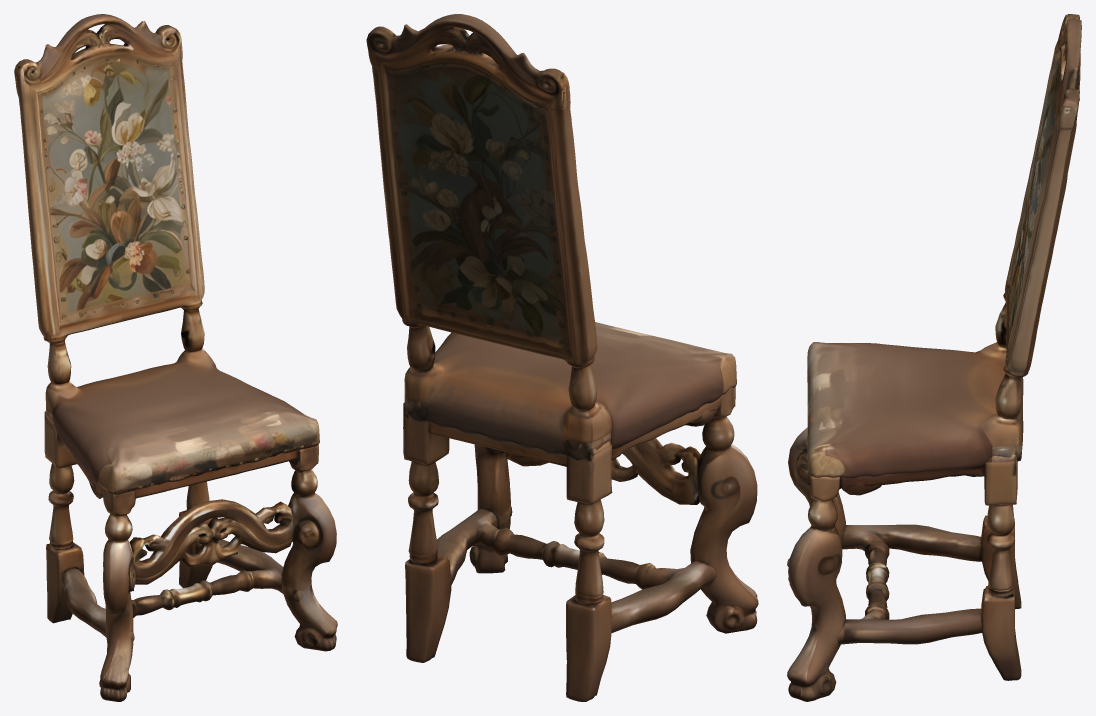
3 views of the same model, side by side, from view 1: azimuth 30°, elevation 25°; view 2: azimuth 150°, elevation 25°; view 3: azimuth 270°, elevation 25° (orthographic). The views are drawn at different scales.
Visible parts, largest first — view 1: root.0, root.1, root.2, root.4, root.3, root.7, root.5, root.6, root.8, root.11, root.12, root.15 (+2 smaller); view 2: root.0, root.1, root.3, root.6, root.8, root.9, root.2, root.7, root.4, root.5, root.11, root.10 (+4 smaller); view 3: root.1, root.0, root.4, root.7, root.6, root.9, root.10, root.5, root.13, root.3, root.15, root.8.
Boxes of the visible parts, x1=… form: root.0: x1=14, y1=14, x2=204, y2=343; root.1: x1=45, y1=348, x2=319, y2=494; root.2: x1=129, y1=499, x2=293, y2=584; root.4: x1=281, y1=469, x2=337, y2=651; root.3: x1=99, y1=514, x2=135, y2=701; root.7: x1=170, y1=539, x2=304, y2=607; root.5: x1=57, y1=434, x2=318, y2=515; root.6: x1=61, y1=568, x2=204, y2=641; root.8: x1=46, y1=542, x2=84, y2=623; root.11: x1=48, y1=463, x2=74, y2=550; root.12: x1=44, y1=411, x2=76, y2=468; root.15: x1=181, y1=308, x2=204, y2=352; root.0: x1=366, y1=14, x2=597, y2=368; root.1: x1=404, y1=322, x2=736, y2=460; root.3: x1=690, y1=416, x2=758, y2=633; root.6: x1=553, y1=544, x2=716, y2=632; root.8: x1=566, y1=595, x2=611, y2=701; root.9: x1=405, y1=554, x2=451, y2=662; root.2: x1=504, y1=438, x2=700, y2=504; root.7: x1=437, y1=506, x2=579, y2=584; root.4: x1=469, y1=444, x2=510, y2=573; root.5: x1=429, y1=387, x2=735, y2=466; root.11: x1=574, y1=499, x2=604, y2=605; root.10: x1=408, y1=461, x2=438, y2=564; root.1: x1=807, y1=342, x2=1023, y2=478; root.0: x1=1003, y1=14, x2=1081, y2=378; root.4: x1=787, y1=499, x2=845, y2=701; root.7: x1=837, y1=567, x2=981, y2=644; root.6: x1=841, y1=524, x2=981, y2=586; root.9: x1=981, y1=586, x2=1021, y2=680; root.10: x1=987, y1=504, x2=1015, y2=597; root.5: x1=810, y1=465, x2=985, y2=501; root.13: x1=984, y1=454, x2=1017, y2=505; root.3: x1=787, y1=427, x2=845, y2=581; root.15: x1=995, y1=373, x2=1021, y2=419; root.8: x1=981, y1=515, x2=1021, y2=609.
Bounding box in the file's own units: 0.5436 × 1.25 × 0.5405.
18 materials, 18 textured.
